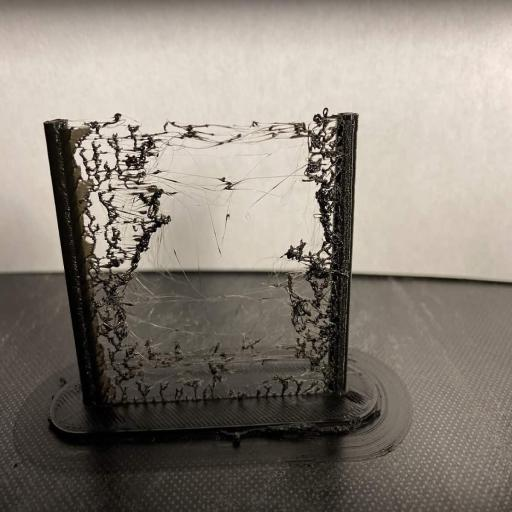stringing: (68, 115, 339, 401)
